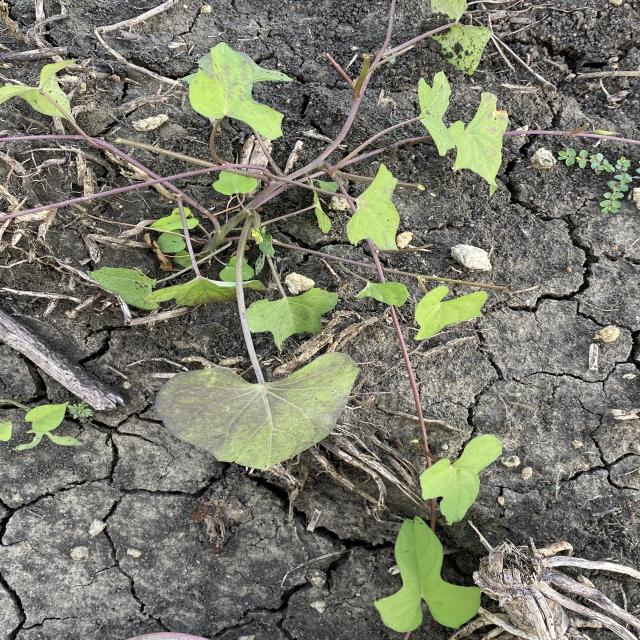MorningGlory: (9, 9, 548, 635)
SpottedSpurge: (554, 145, 636, 217)
